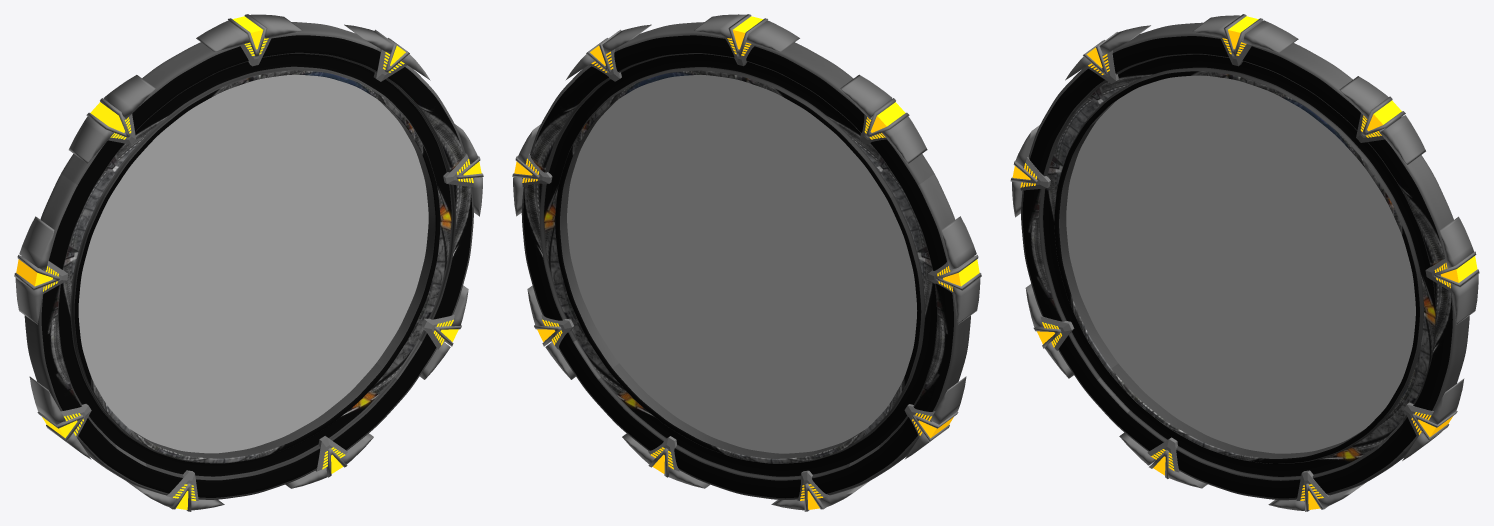
Rendered from portal.fbx.
The picture shows the model from 3 angles, left to right: view 1: azimuth 30°, elevation 25°; view 2: azimuth 150°, elevation 25°; view 3: azimuth 330°, elevation 25°; orthographic projection.
Visible parts, largest first — view 1: Cylinder.001, Cylinder, Cube.028, Cube.024, Cube.002, Cube.032, Cube.004, Cube.012, Cube.016, Cube.008, Cube.020, Cube.029 (+1 smaller); view 2: Cylinder.001, Cylinder, Cube.028, Cube.024, Cube.002, Cube.032, Cube.004, Cube.012, Cube.016, Cube.008, Cube.029, Cube.020 (+1 smaller); view 3: Cylinder.001, Cylinder, Cube.004, Cube.008, Cube.002, Cube.012, Cube.028, Cube.032, Cube.020, Cube.024, Cube.016, Cube.005 (+1 smaller).
Part boxes in pixels (<box>): Cylinder.001: <box>78,74,428,453</box>; Cylinder: <box>24,22,473,499</box>; Cube.028: <box>68,75,155,163</box>; Cube.024: <box>15,216,54,324</box>; Cube.002: <box>196,14,302,51</box>; Cube.032: <box>29,376,91,459</box>; Cube.004: <box>344,24,430,80</box>; Cube.012: <box>419,285,468,379</box>; Cube.016: <box>285,433,373,488</box>; Cube.008: <box>455,124,482,216</box>; Cube.020: <box>126,481,224,510</box>; Cube.029: <box>90,102,131,139</box>; Cylinder.001: <box>567,75,917,453</box>; Cylinder: <box>521,22,970,499</box>; Cube.028: <box>840,74,927,163</box>; Cube.024: <box>941,216,980,324</box>; Cube.002: <box>693,14,799,51</box>; Cube.032: <box>904,376,966,459</box>; Cube.004: <box>565,24,651,80</box>; Cube.012: <box>527,285,575,379</box>; Cube.016: <box>622,433,709,488</box>; Cube.008: <box>513,124,540,216</box>; Cube.029: <box>864,102,905,139</box>; Cube.020: <box>771,481,868,510</box>; Cylinder.001: <box>1066,75,1415,453</box>; Cylinder: <box>1021,22,1469,500</box>; Cube.004: <box>1339,76,1425,164</box>; Cube.008: <box>1440,216,1478,324</box>; Cube.002: <box>1192,15,1298,52</box>; Cube.012: <box>1402,378,1464,460</box>; Cube.028: <box>1065,25,1150,80</box>; Cube.032: <box>1025,284,1073,378</box>; Cube.020: <box>1119,432,1207,488</box>; Cube.024: <box>1012,125,1039,217</box>; Cube.016: <box>1268,483,1364,510</box>; Cube.005: <box>1360,100,1401,137</box>.
Bounding box in the file's own units: 205 × 203 × 15.29.
